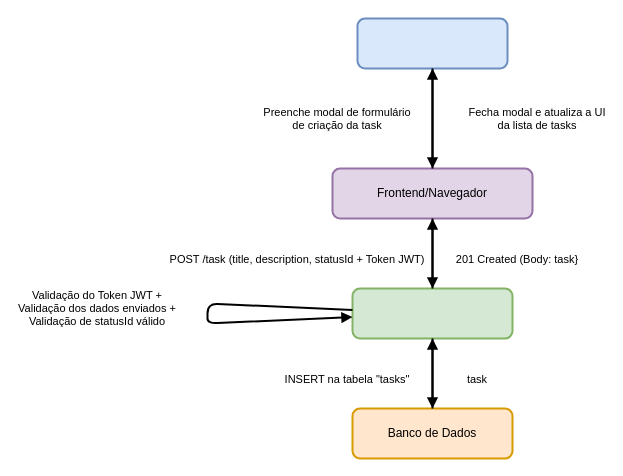
The diagram is 623 pixels wide and 476 high, and some of its shapes have lost their labels. Here are the shapes that lost their labels. From the top down, the centre of each, then its label:
At point (432, 43): "Usuário".
At point (432, 313): "Backend".
